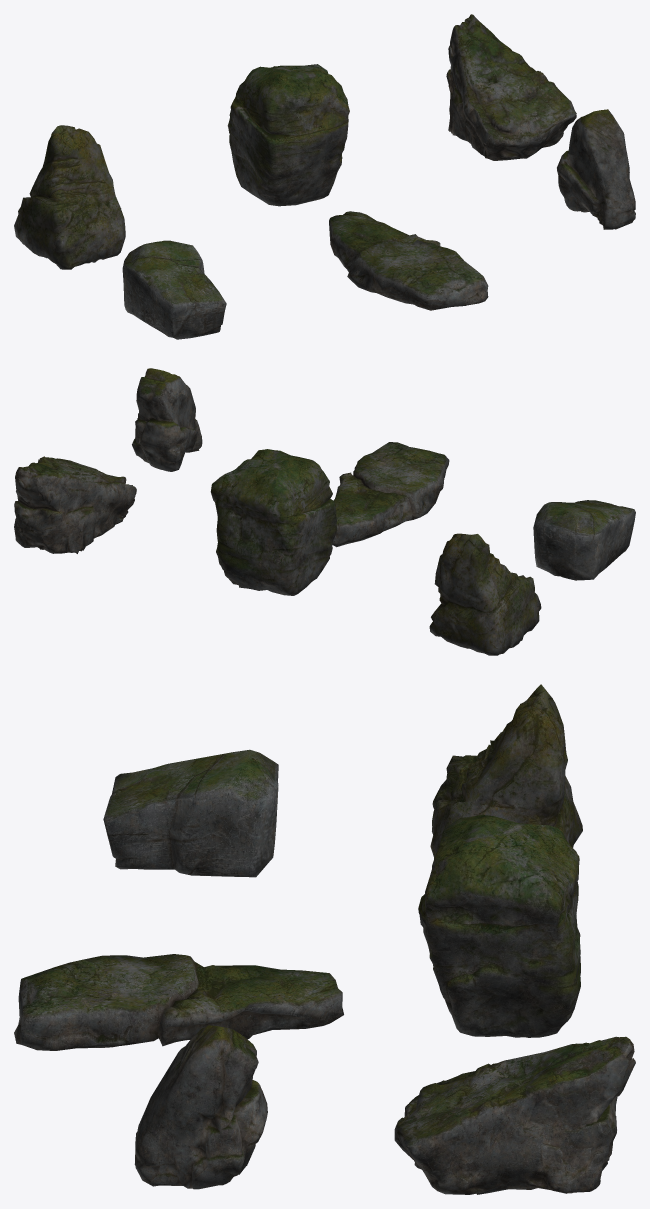
File: rocks.glb
3 renders of one model, top to bottom at view 1: azimuth 30°, elevation 25°; view 2: azimuth 150°, elevation 25°; view 3: azimuth 270°, elevation 25°, orthographic. The views are drawn at different scales.
Parts seen in each view (by area): view 1: SM_LittleRock_05, SM_LittleRock_06, SM_LittleRock_04, SM_LittleRock_03, SM_LittleRock_01, SM_LittleRock_02; view 2: SM_LittleRock_05, SM_LittleRock_04, SM_LittleRock_06, SM_LittleRock_03, SM_LittleRock_01, SM_LittleRock_02; view 3: SM_LittleRock_05, SM_LittleRock_06, SM_LittleRock_03, SM_LittleRock_01, SM_LittleRock_02, SM_LittleRock_04.
Boxes of the visible parts, x1,y1,x2,y2 form: SM_LittleRock_05: (227,64,349,206); SM_LittleRock_06: (446,14,576,160); SM_LittleRock_04: (14,125,125,269); SM_LittleRock_03: (329,211,488,310); SM_LittleRock_01: (122,240,226,339); SM_LittleRock_02: (557,109,635,229); SM_LittleRock_05: (210,449,337,595); SM_LittleRock_04: (429,533,541,655); SM_LittleRock_06: (14,456,136,553); SM_LittleRock_03: (332,442,449,547); SM_LittleRock_01: (533,500,635,580); SM_LittleRock_02: (132,368,202,471); SM_LittleRock_05: (418,814,580,1037); SM_LittleRock_06: (394,1036,635,1194); SM_LittleRock_03: (14,954,343,1050); SM_LittleRock_01: (103,749,278,877); SM_LittleRock_02: (134,1025,267,1189); SM_LittleRock_04: (430,684,582,858).
Size of the model in its own units: 14.36 by 3.5 by 9.86.
Materials: 6 (6 with a texture image).
